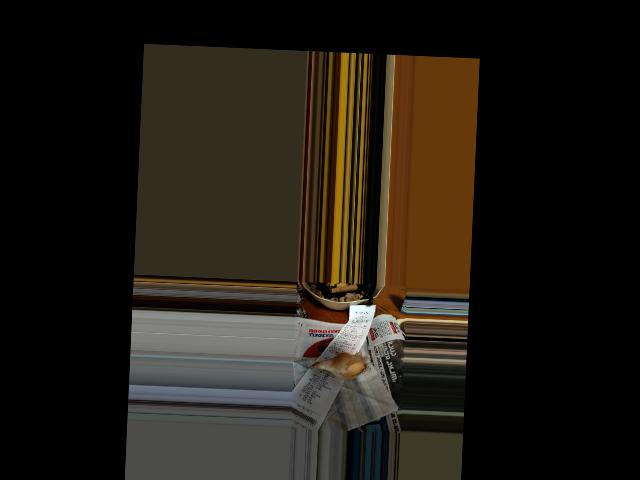onion: (326, 353, 366, 380)
